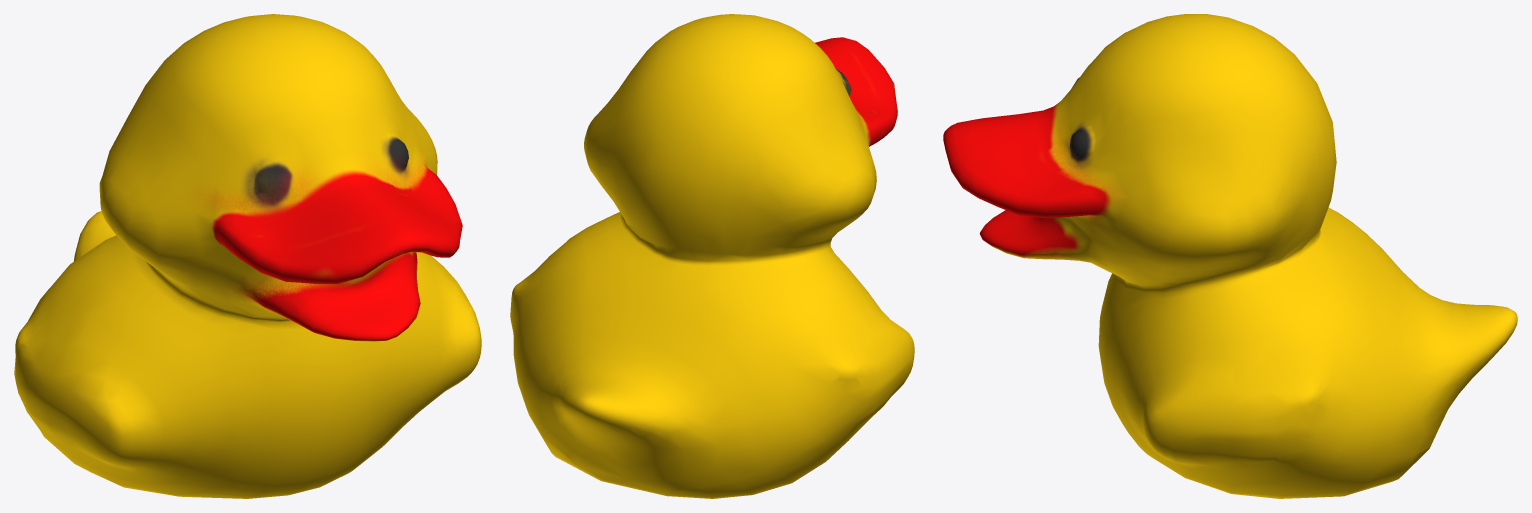
File: uploads_files_3367710_duckie.fbx
The picture shows the model from 3 angles, left to right: view 1: azimuth 30°, elevation 25°; view 2: azimuth 150°, elevation 25°; view 3: azimuth 270°, elevation 25°; orthographic projection. The views are drawn at different scales.
Visible parts, largest first — view 1: duckie_low; view 2: duckie_low; view 3: duckie_low.
Part boxes in pixels (<box>): duckie_low: <box>14,14,481,498</box>; duckie_low: <box>510,14,914,498</box>; duckie_low: <box>943,14,1517,498</box>.
Size of the model in its own units: 34.28 by 35.41 by 44.58.
